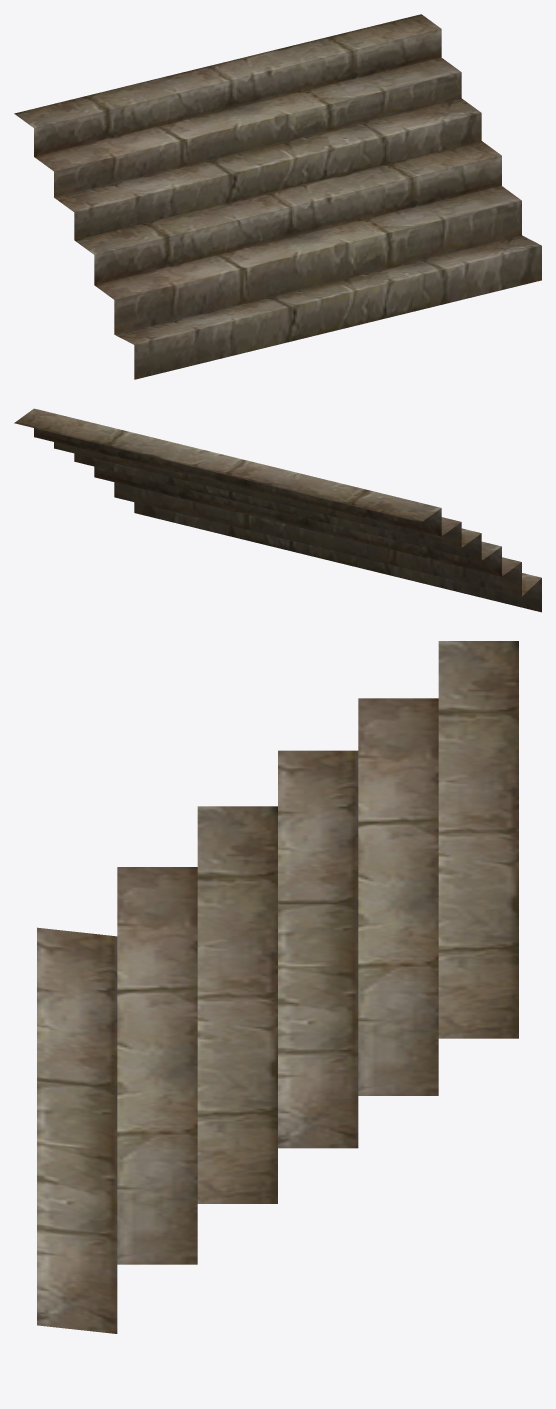
Rendered from nashgar_stair_base2_ruins_02.FBX.
3 renders of one model, top to bottom at view 1: azimuth 30°, elevation 25°; view 2: azimuth 150°, elevation 25°; view 3: azimuth 270°, elevation 25°, orthographic. The views are drawn at different scales.
Visible parts, largest first — view 1: nashgar_stair_base2_ruins_02; view 2: nashgar_stair_base2_ruins_02; view 3: nashgar_stair_base2_ruins_02.
Boxes of the visible parts, left/top/right/bottom form: nashgar_stair_base2_ruins_02: left=14, top=14, right=541, bottom=379; nashgar_stair_base2_ruins_02: left=14, top=408, right=541, bottom=612; nashgar_stair_base2_ruins_02: left=37, top=641, right=518, bottom=1333.
Bounding box in the file's own units: 4.91 × 2.05 × 2.51.
